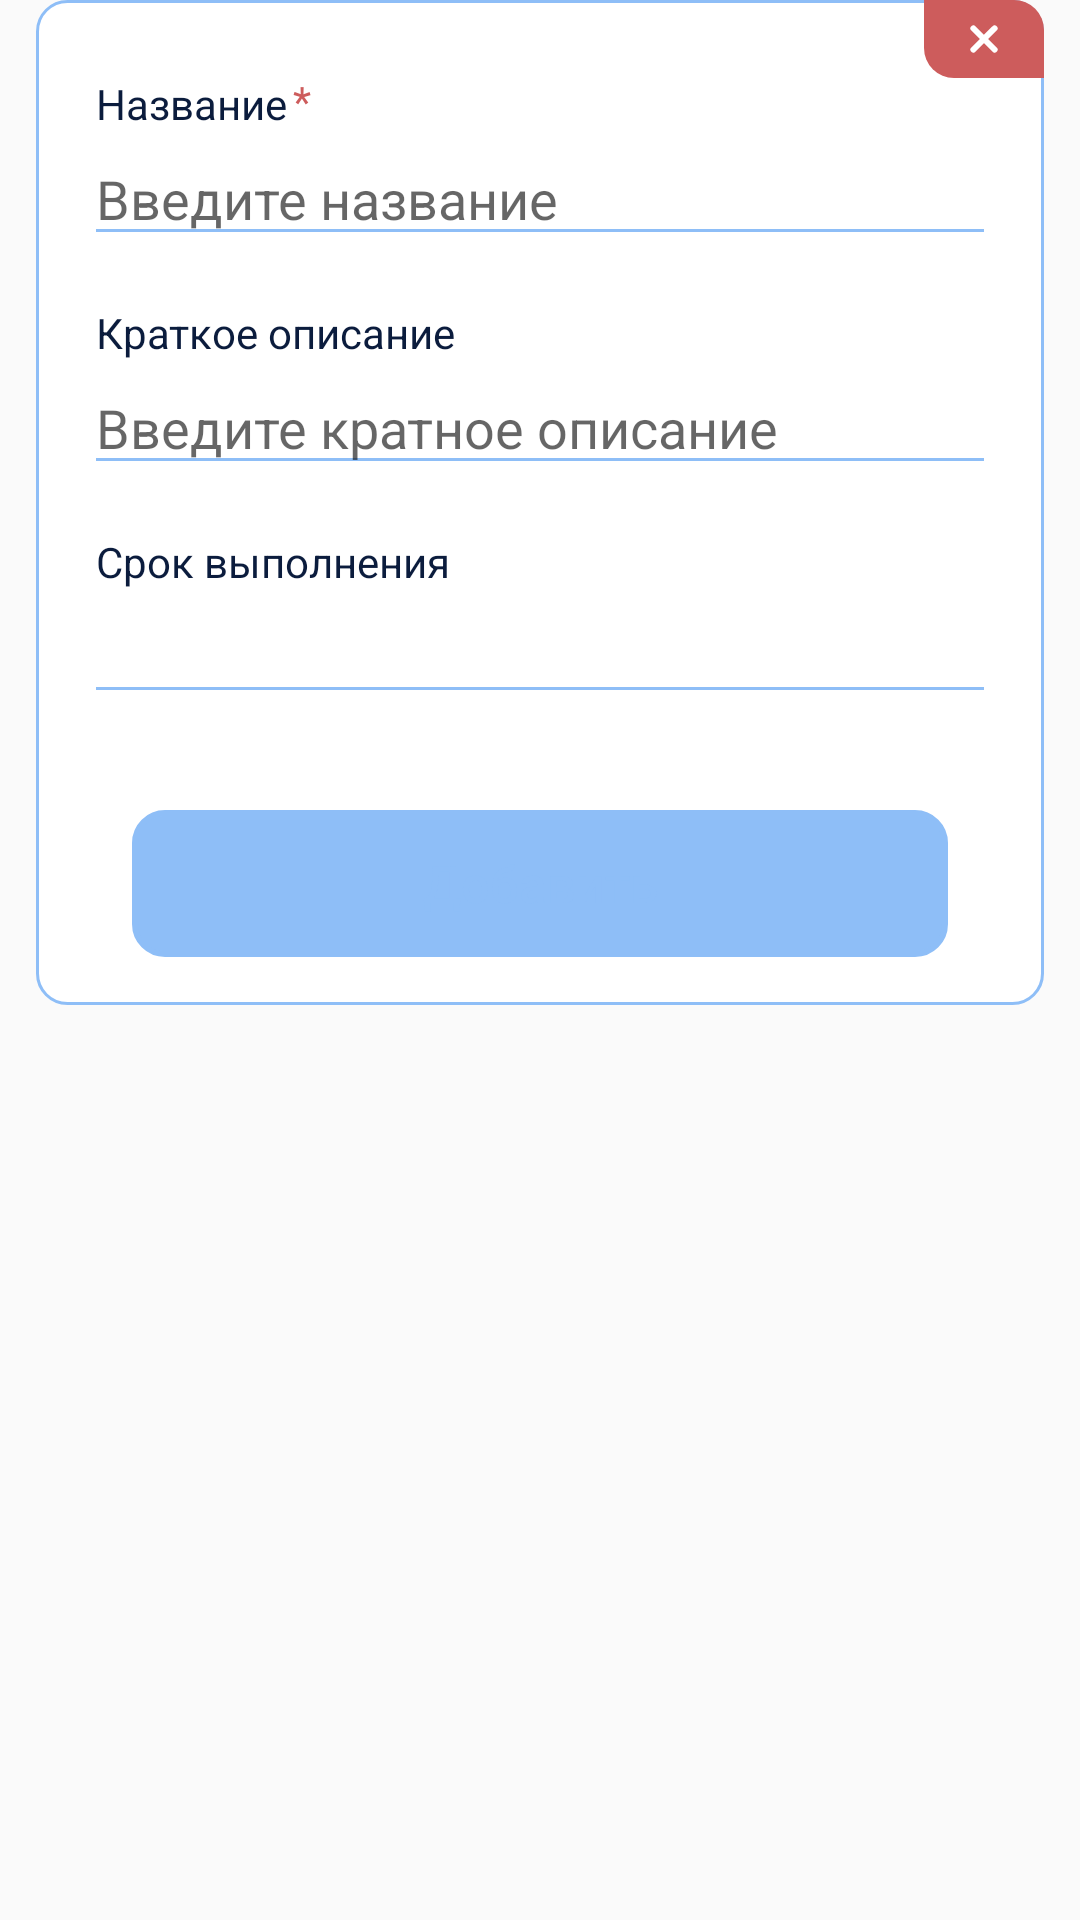

Named icons in this screenshot (1080px×1920px) and their centers, (x,y):
cross: (984,39)
